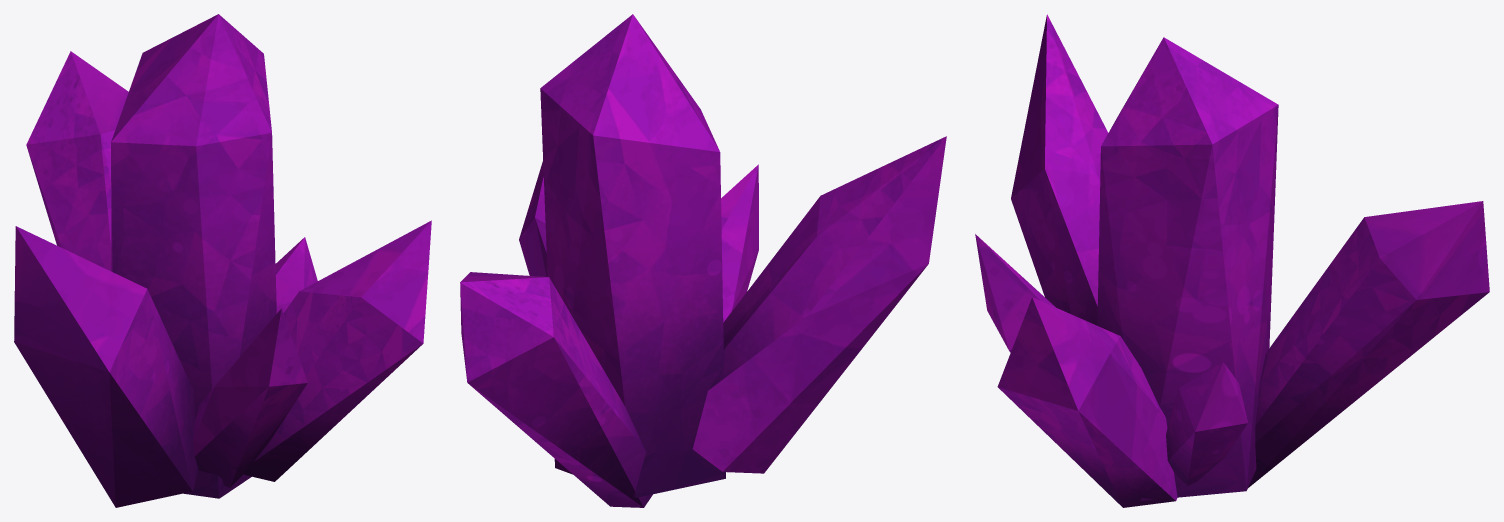
The model's file is P_CLUSTER CRYSTAL3.fbx.
3 renders of one model, left to right at view 1: azimuth 30°, elevation 25°; view 2: azimuth 150°, elevation 25°; view 3: azimuth 270°, elevation 25°, orthographic. The views are drawn at different scales.
Parts seen in each view (by area): view 1: Cluster Crystal_3; view 2: Cluster Crystal_3; view 3: Cluster Crystal_3.
Boxes of the visible parts, x1,y1,x2,y2 form: Cluster Crystal_3: (14, 14, 431, 507); Cluster Crystal_3: (460, 14, 946, 507); Cluster Crystal_3: (975, 14, 1489, 507).
Size of the model in its own units: 272 by 288 by 292.
